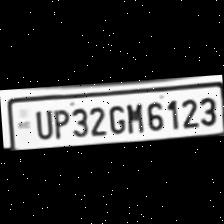1: (161, 95, 179, 129)
2: (176, 93, 198, 127), (86, 101, 106, 135)
3: (195, 92, 217, 125), (67, 103, 88, 136)
6: (142, 96, 164, 130)
G: (104, 100, 125, 134)
M: (122, 98, 143, 133)
P: (48, 104, 68, 138)
U: (29, 105, 50, 139)
